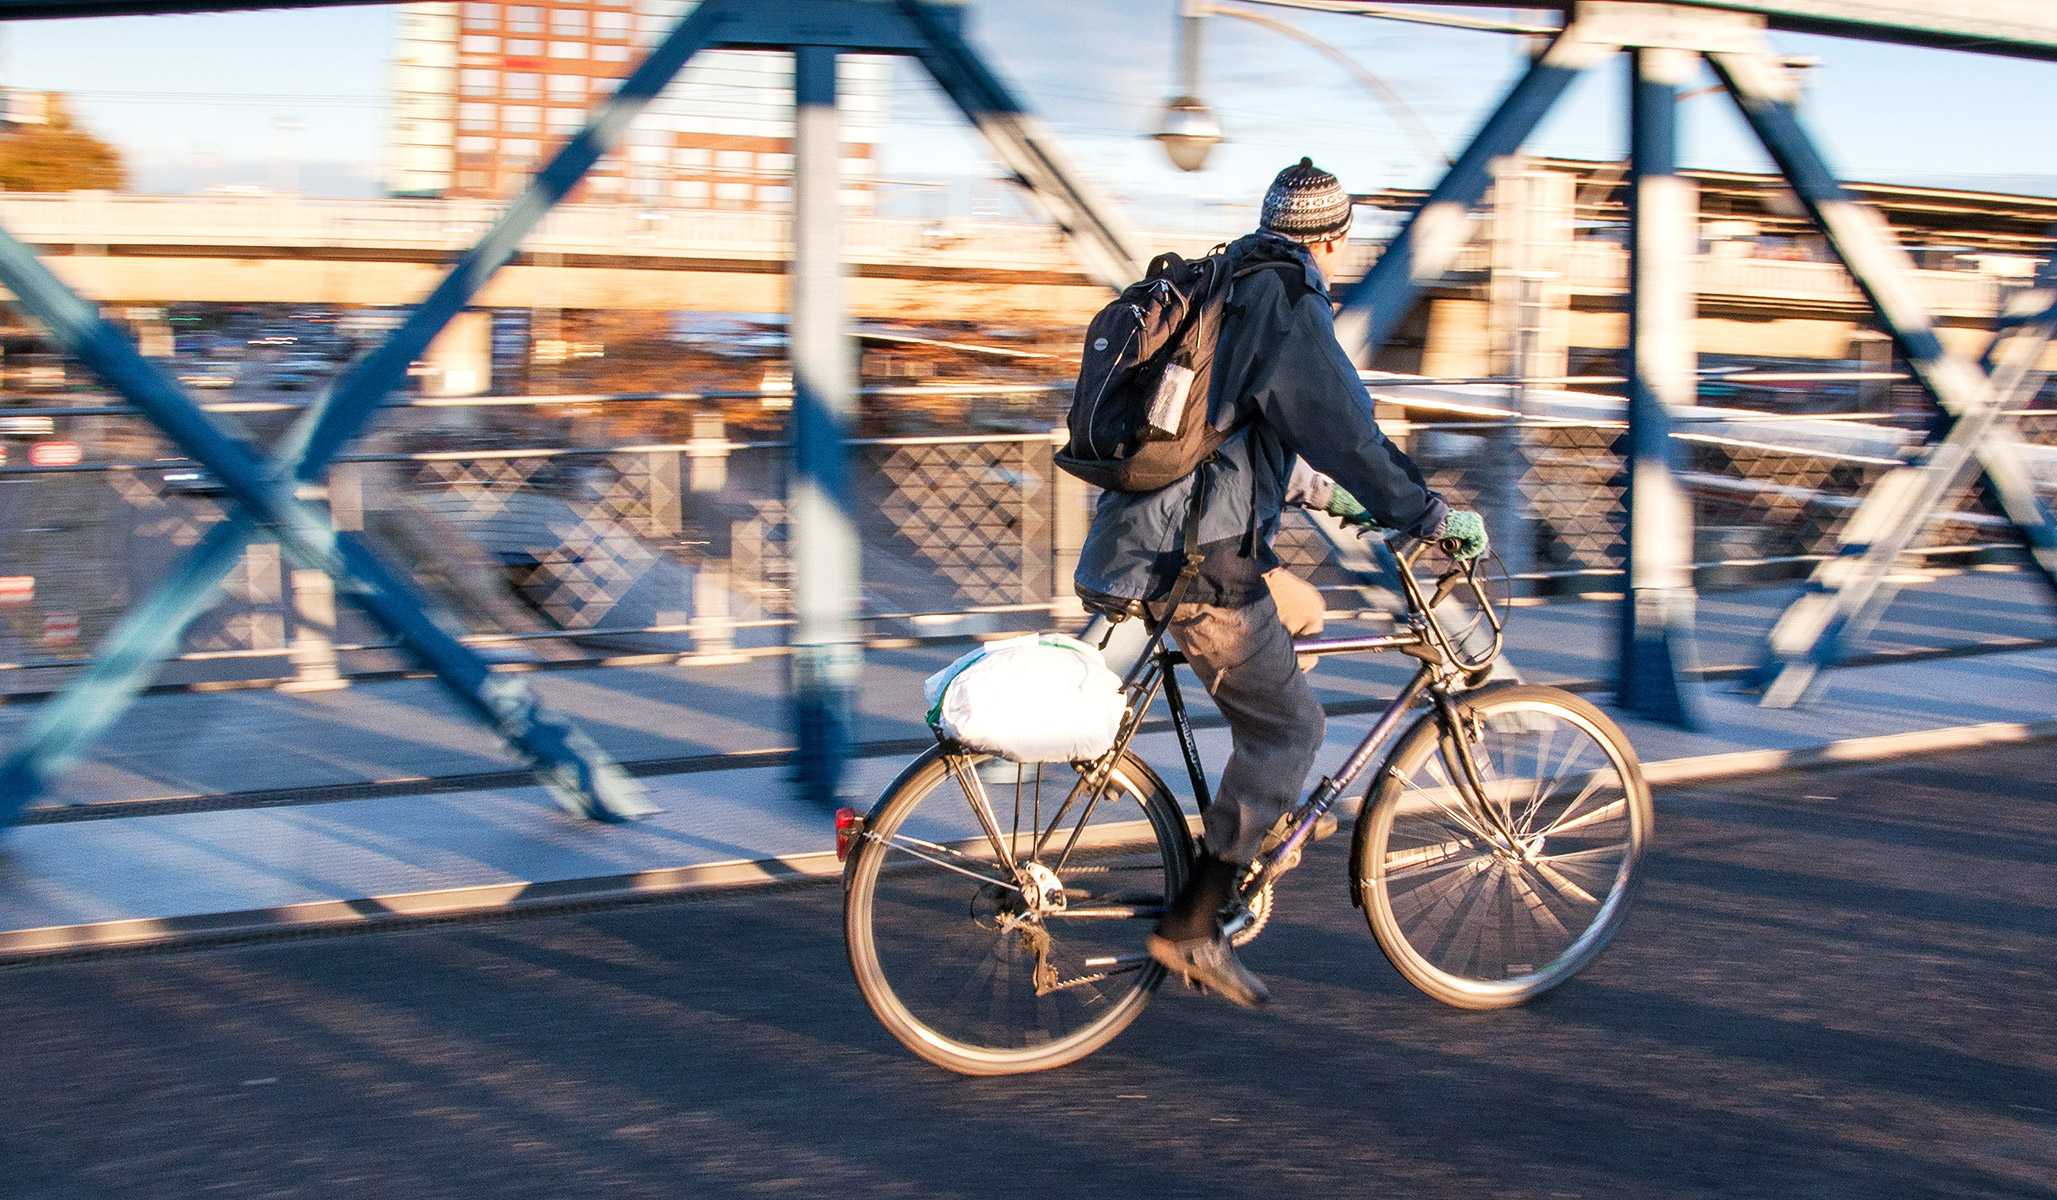commuter: (836, 151, 1668, 1090)
